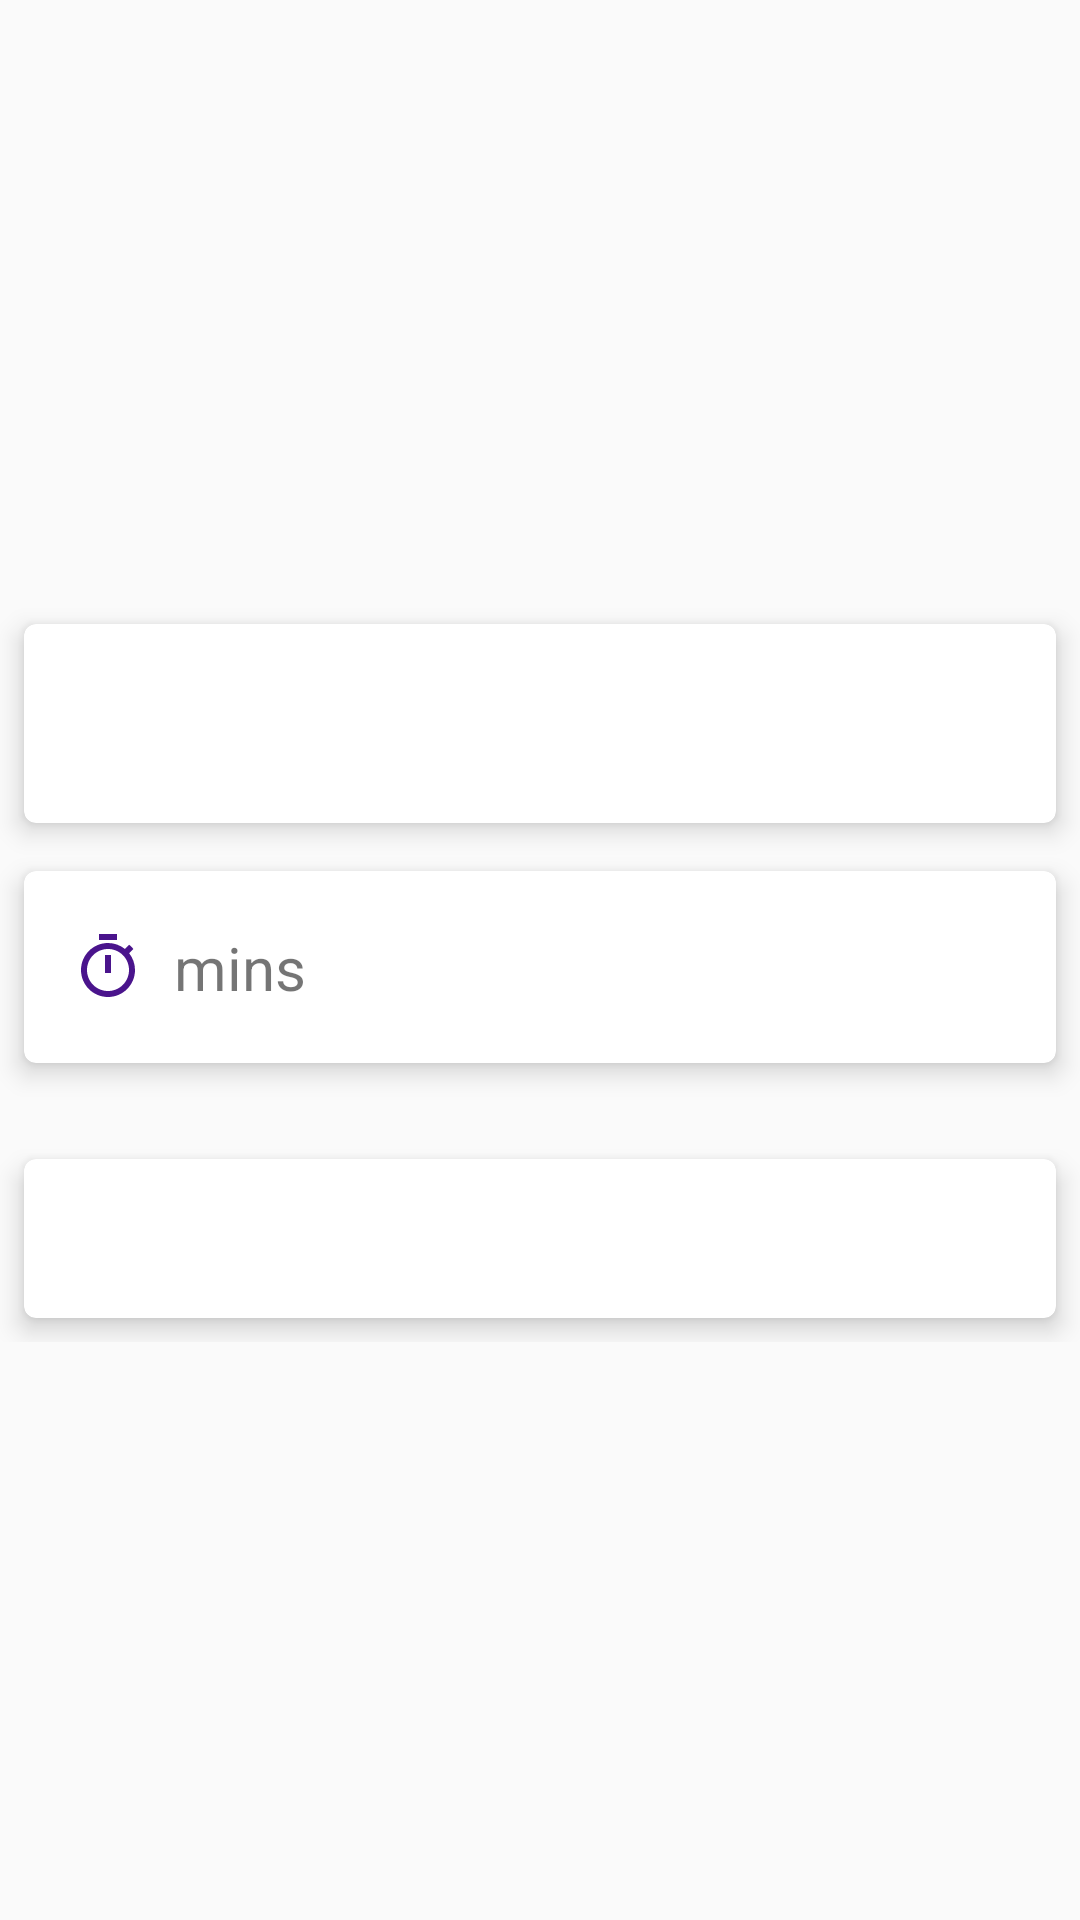

Where to tap for icons on this 1080 × 1920 app screen, as (x,y):
timer: (108,965)
